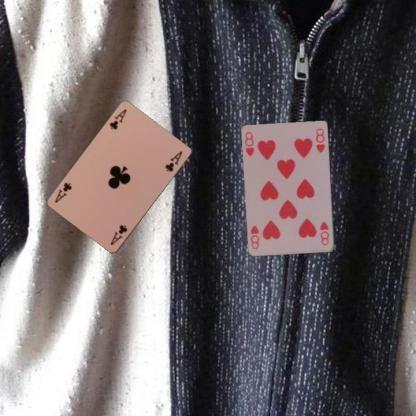8h: (243, 129, 256, 158), (318, 219, 330, 247)
Ac: (108, 222, 129, 247), (107, 106, 128, 131)
